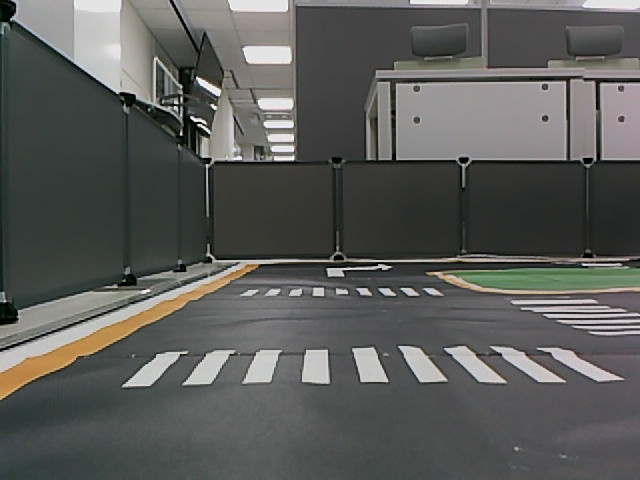crosswalk: (113, 345, 624, 388), (237, 287, 448, 298)
